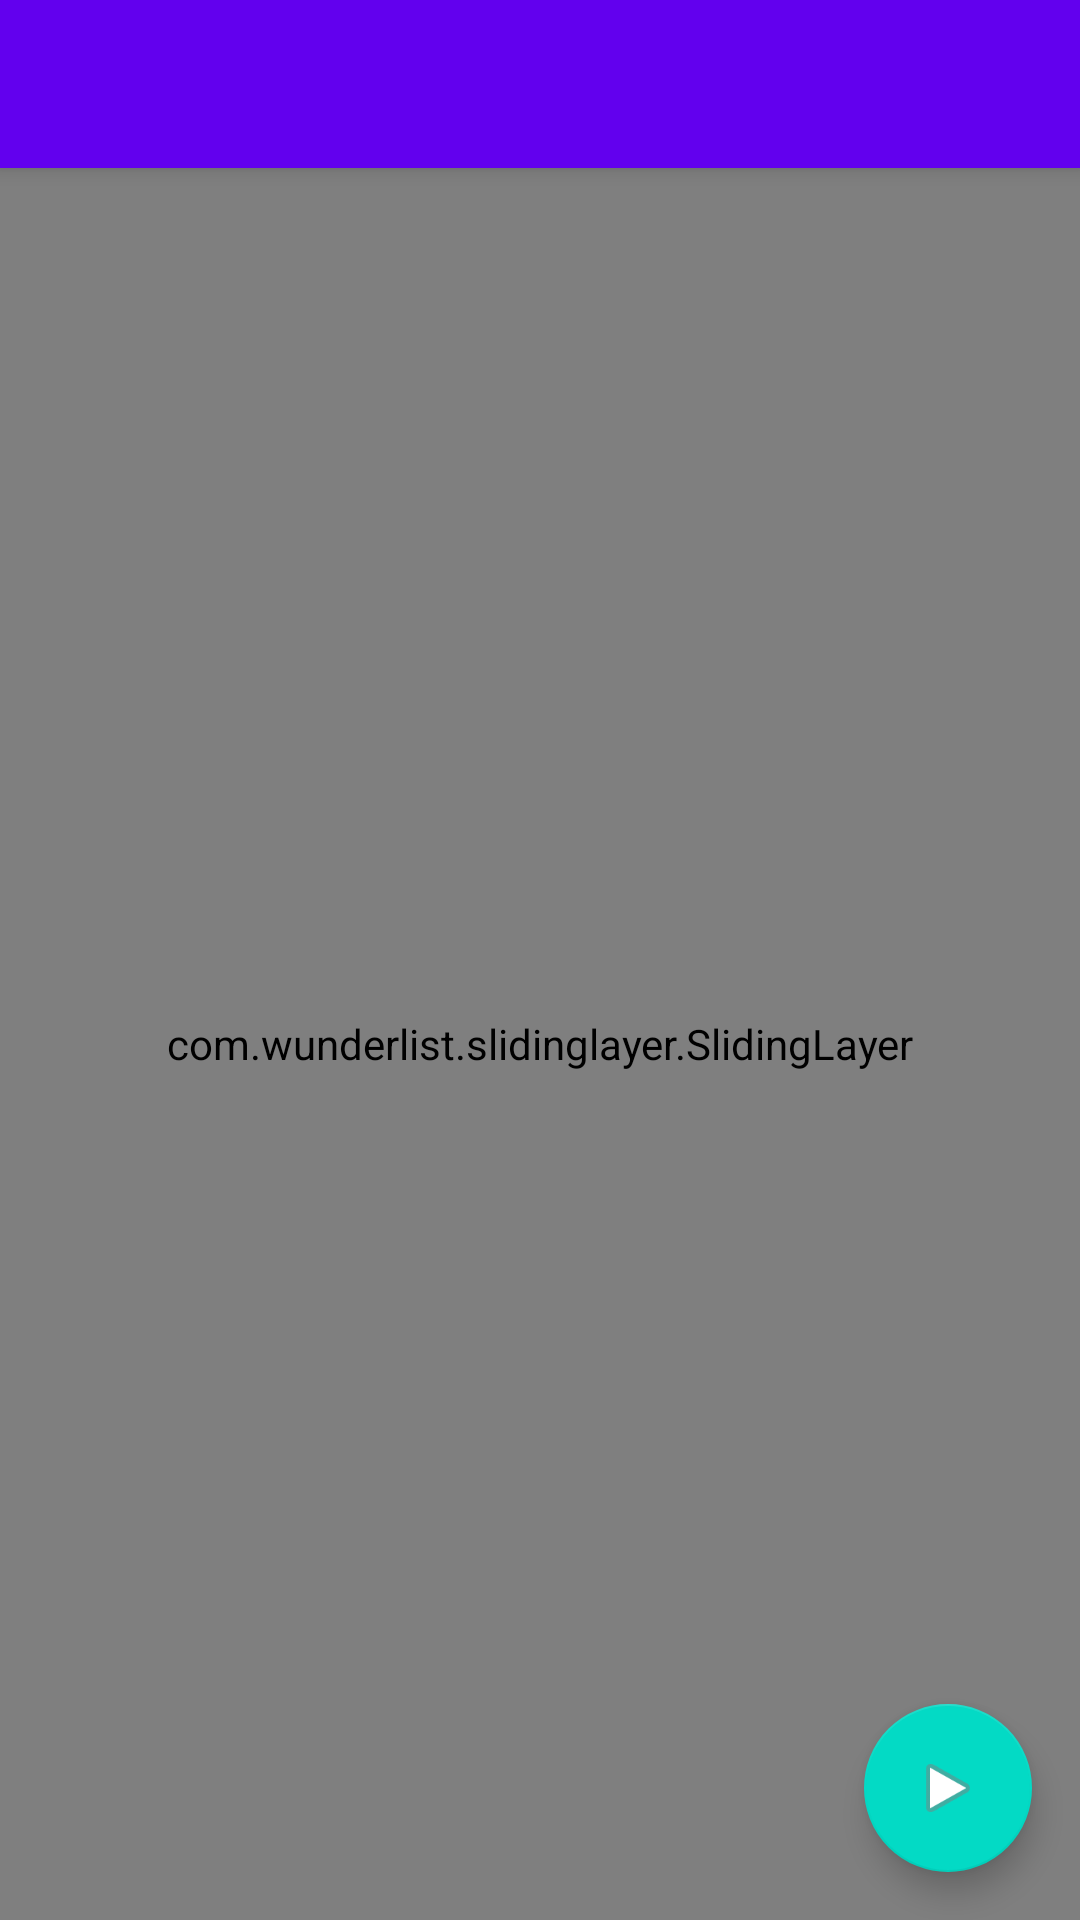

Where to tap for icons on this 1080x1920 app screen, as (x=x, y=y):
play: (x=948, y=1788)
